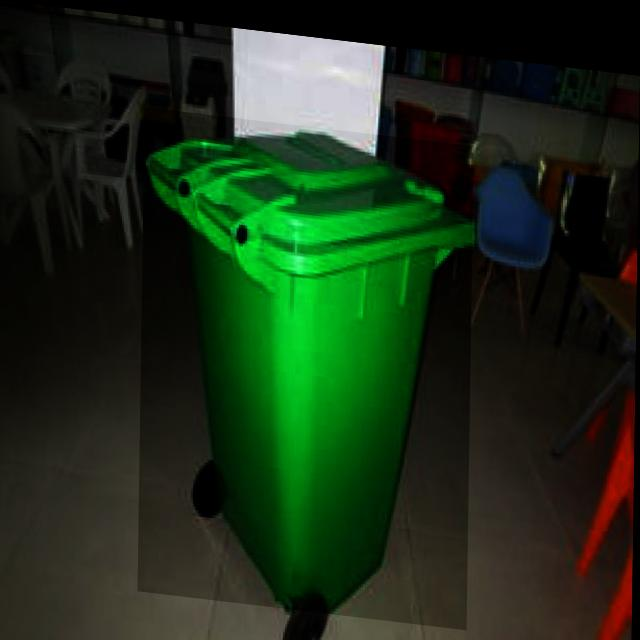garbage_bin: (139, 104, 474, 618)
